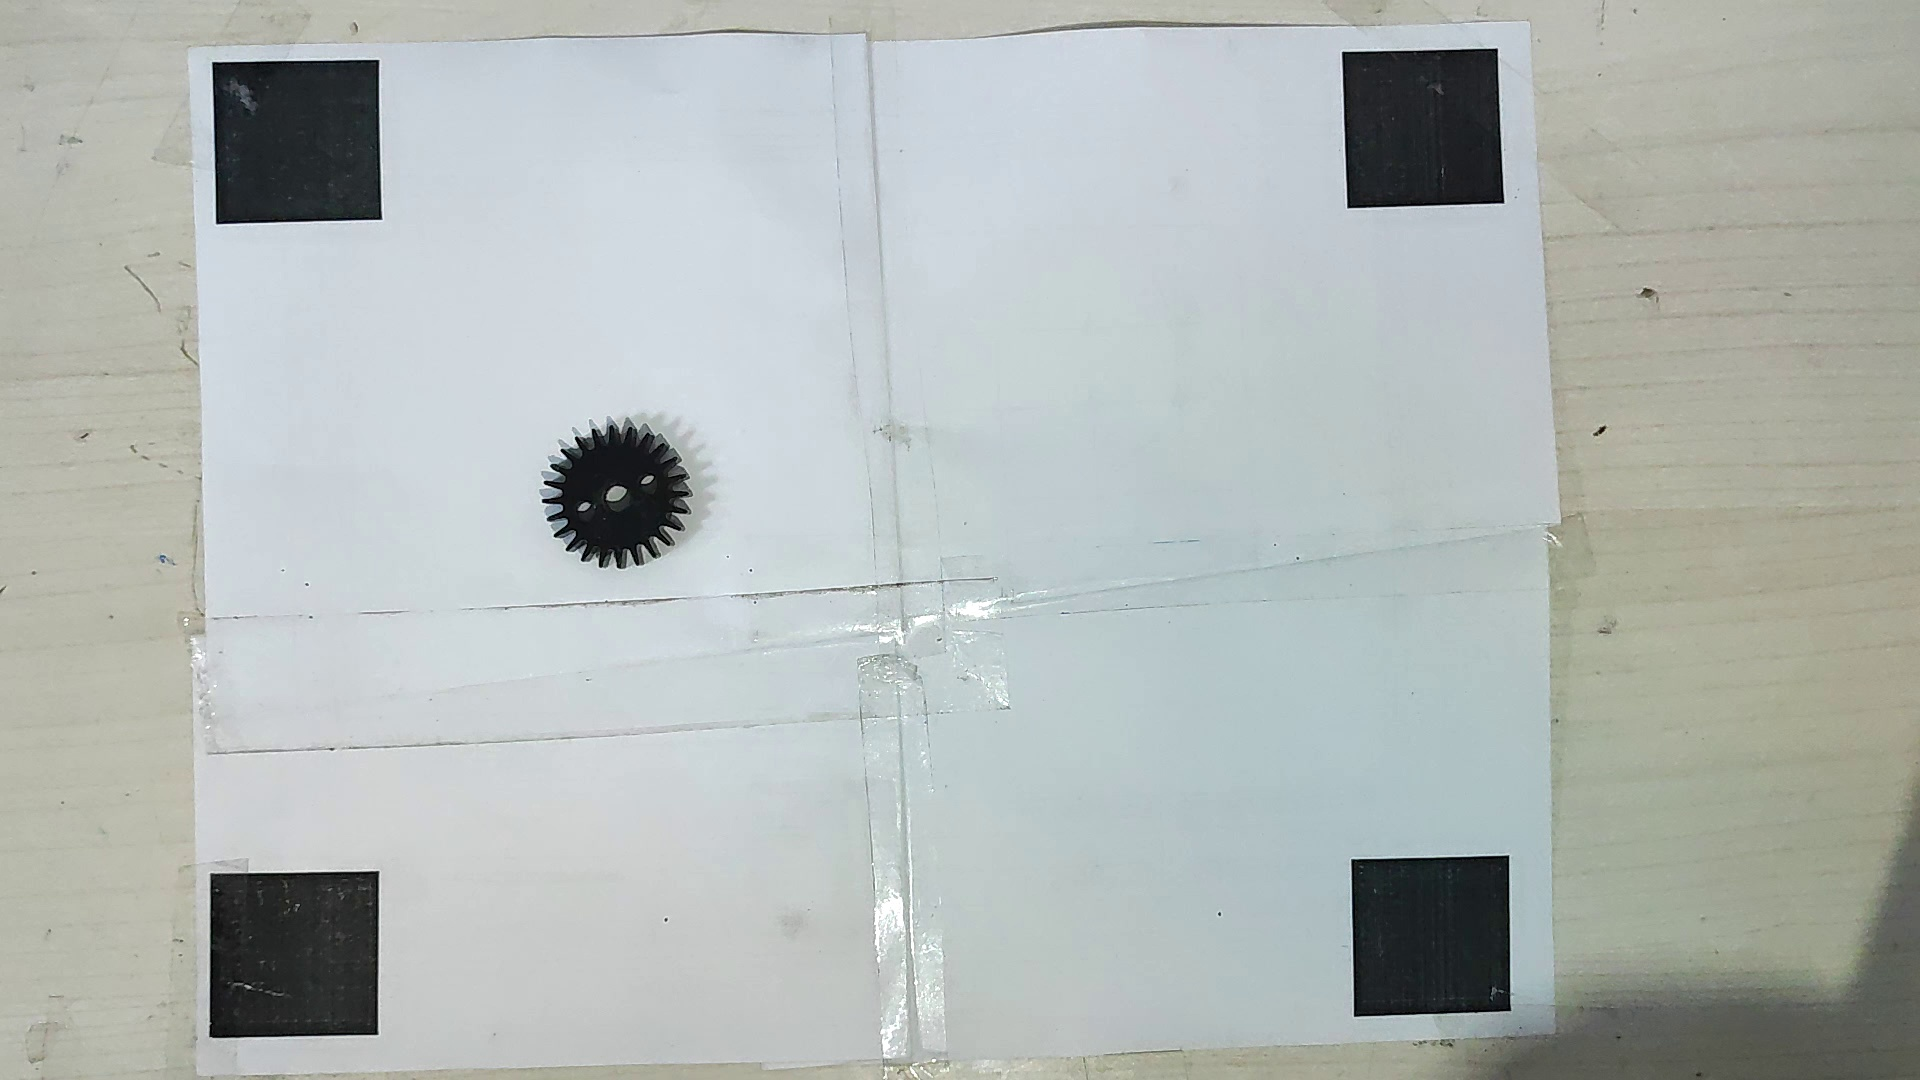Gear: (542, 415, 695, 572)
